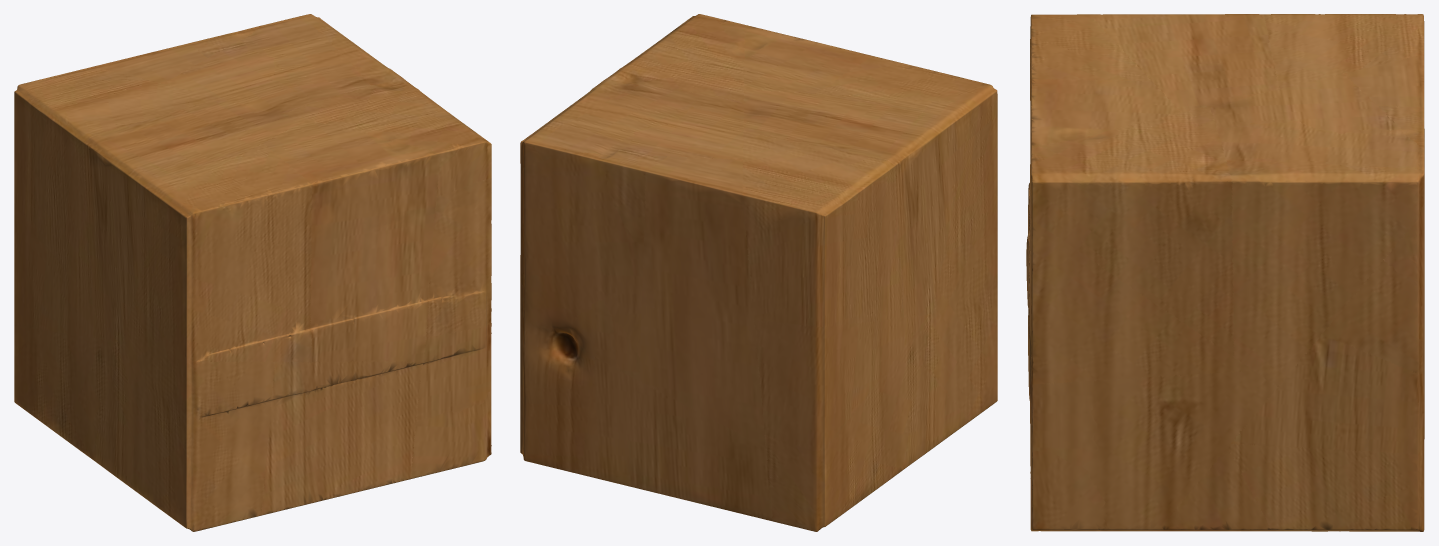
The model's file is 木地板面板.glb.
The picture shows the model from 3 angles, left to right: view 1: azimuth 30°, elevation 25°; view 2: azimuth 150°, elevation 25°; view 3: azimuth 270°, elevation 25°; orthographic projection. The views are drawn at different scales.
Parts seen in each view (by area): view 1: tripo_node_06731e7c-fe42-4114-8b7e-c7a2c2d6f730; view 2: tripo_node_06731e7c-fe42-4114-8b7e-c7a2c2d6f730; view 3: tripo_node_06731e7c-fe42-4114-8b7e-c7a2c2d6f730.
Part boxes in pixels (left/top/right/bottom): tripo_node_06731e7c-fe42-4114-8b7e-c7a2c2d6f730: left=14, top=14, right=491, bottom=531; tripo_node_06731e7c-fe42-4114-8b7e-c7a2c2d6f730: left=520, top=14, right=997, bottom=531; tripo_node_06731e7c-fe42-4114-8b7e-c7a2c2d6f730: left=1026, top=14, right=1424, bottom=531.
Bounding box in the file's own units: 0.9931 × 0.9943 × 0.9999.
1 material, 1 textured.
